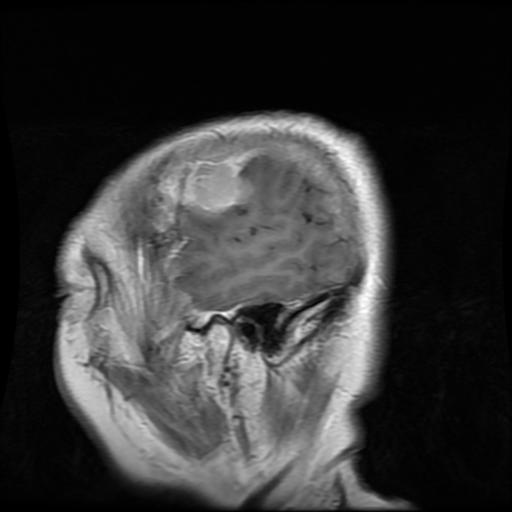Menigiomia_tumour: (186, 161, 240, 211)
